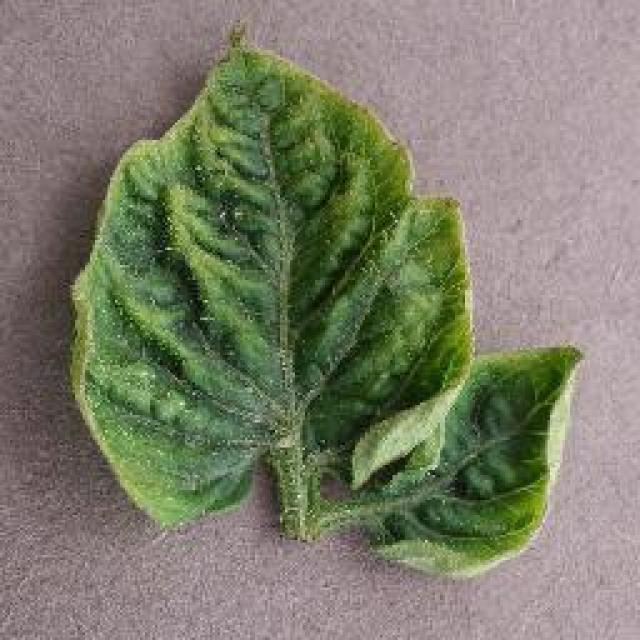Tomato yellow virus leaf: (70, 30, 470, 532), (348, 348, 590, 582)
